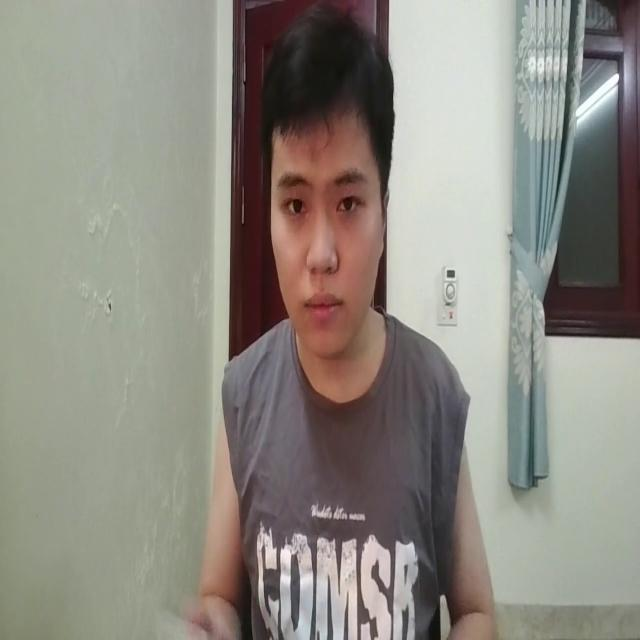student: (201, 6, 497, 640)
